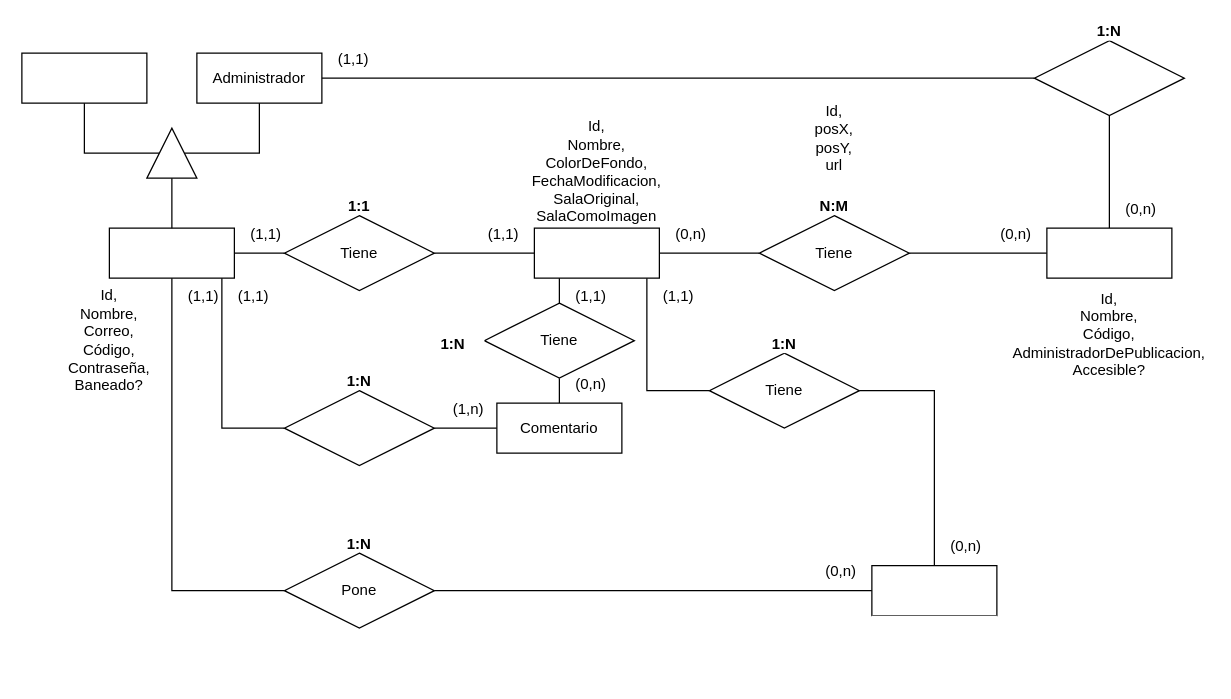
This 1231x699 diagram has some shape labels left out. The shapes that lost their labels are listed below. From the top down, each one's box as (x1, y1, x2, y2) in pixels, then its label:
(21, 52, 147, 103): Moderador
(1033, 39, 1184, 116): Publica
(108, 227, 234, 278): Usuario
(533, 227, 659, 278): Sala
(1046, 227, 1172, 278): Imagen
(283, 389, 434, 466): Hace
(484, 452, 634, 552): Id, Usuario, Sala, Contenido, FechaDePublicacion
(871, 564, 997, 616): Valoración
(871, 615, 996, 678): Id, Usuario, Sala
